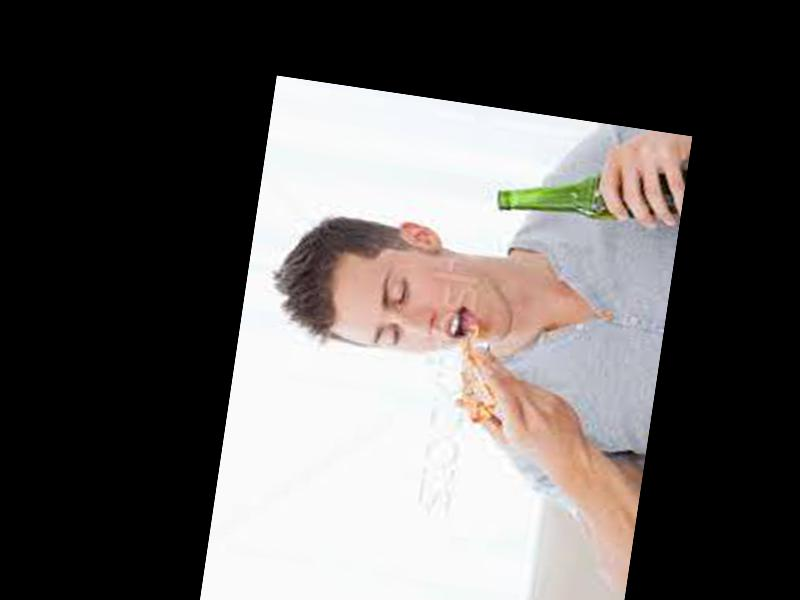Beer: (496, 141, 688, 236)
